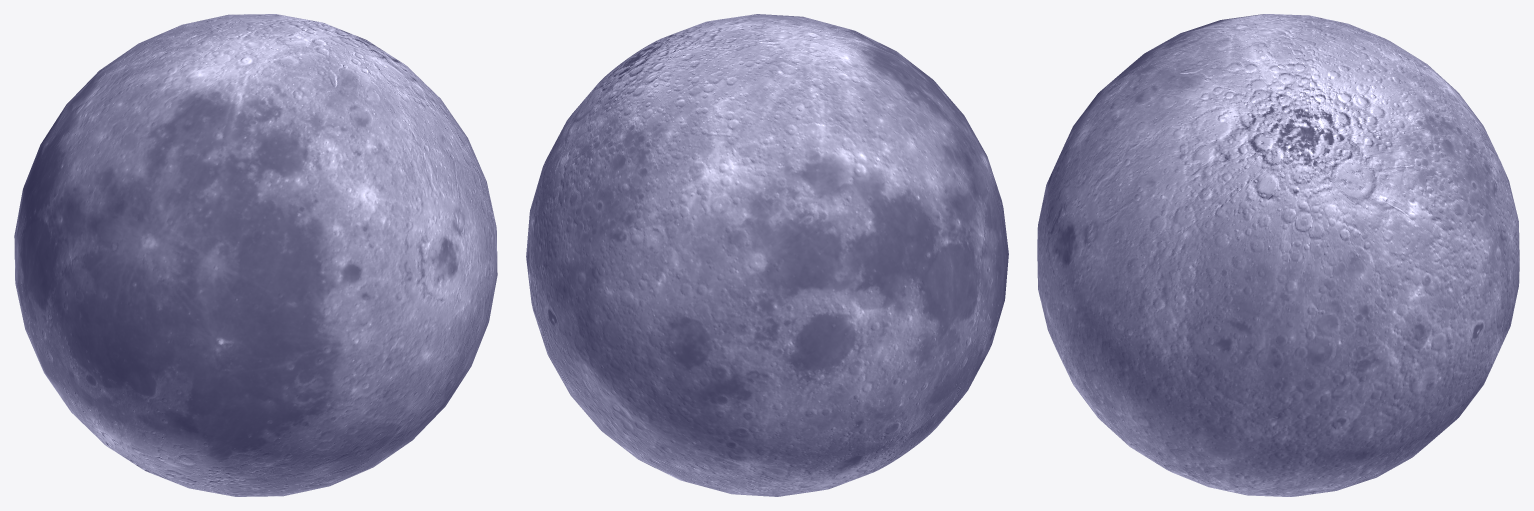
The model's file is lune (source).glb.
3 renders of one model, left to right at view 1: azimuth 30°, elevation 25°; view 2: azimuth 150°, elevation 25°; view 3: azimuth 270°, elevation 25°, orthographic.
Visible parts, largest first — view 1: MOON_15; view 2: MOON_15; view 3: MOON_15.
Boxes of the visible parts, <box> form: MOON_15: <box>14,14,497,496</box>; MOON_15: <box>526,14,1008,496</box>; MOON_15: <box>1037,14,1519,496</box>.
Bounding box in the file's own units: 11.99 × 11.98 × 11.92.
1 material, 1 textured.
